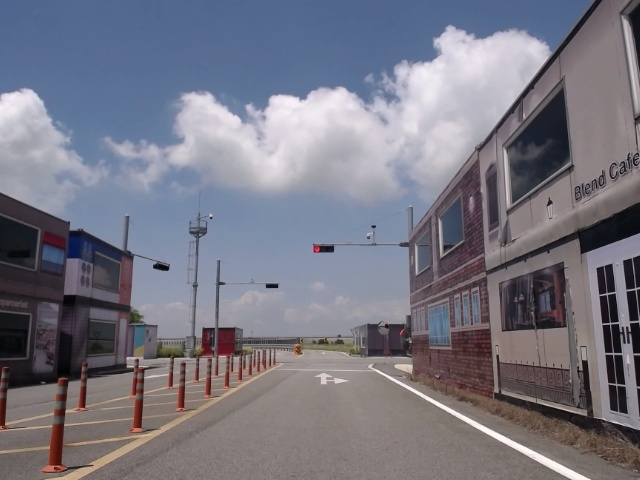red_3: (314, 245, 334, 252)
